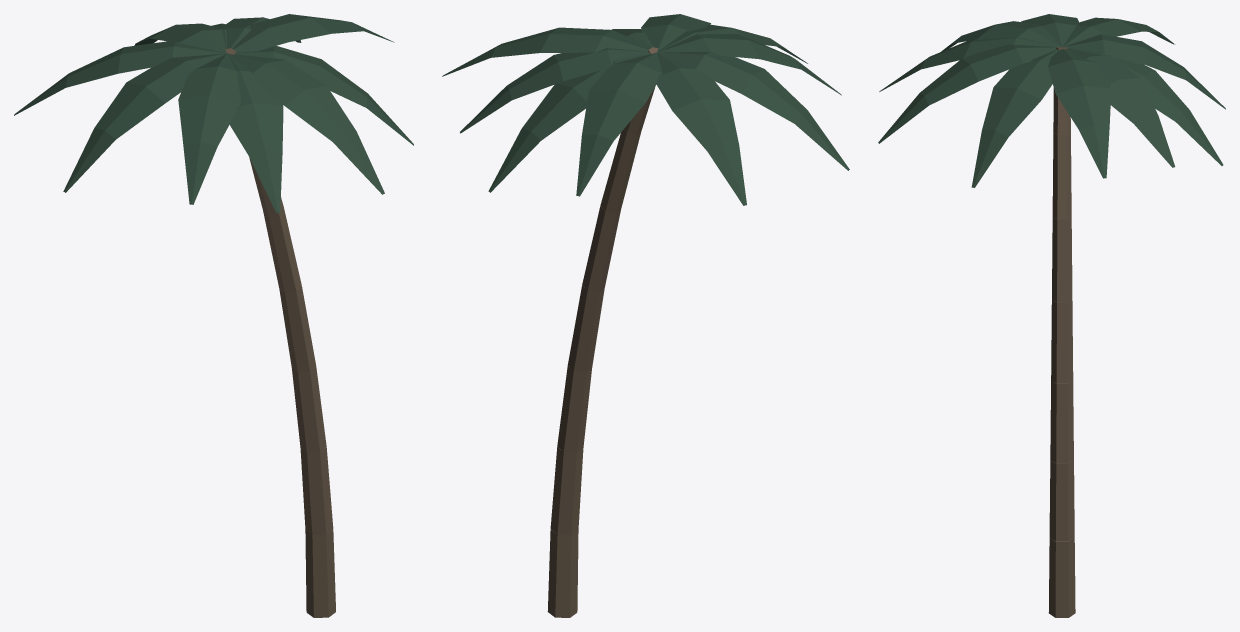
The model's file is palm_tall.glb.
3 renders of one model, left to right at view 1: azimuth 30°, elevation 25°; view 2: azimuth 150°, elevation 25°; view 3: azimuth 270°, elevation 25°, orthographic. The views are drawn at different scales.
Parts seen in each view (by area): view 1: palm_tall; view 2: palm_tall; view 3: palm_tall.
Boxes of the visible parts, x1,y1,x2,y2 form: palm_tall: (14, 14, 413, 617); palm_tall: (442, 14, 849, 617); palm_tall: (878, 14, 1225, 617).
Size of the model in its own units: 8.61 by 13.22 by 7.81.
